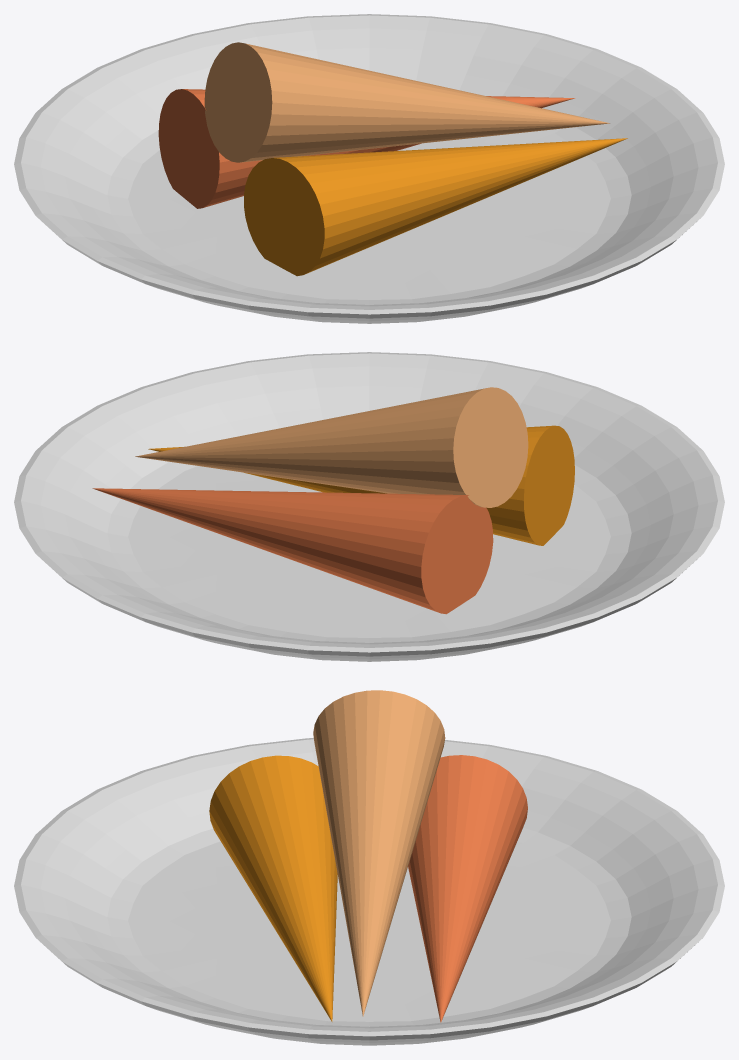
The model's file is kue clorot.fbx.
3 views of the same model, one above another, from view 1: azimuth 30°, elevation 25°; view 2: azimuth 150°, elevation 25°; view 3: azimuth 270°, elevation 25° (orthographic).
Visible parts, largest first — view 1: Cylinder, Cone.002, Cone.001, Cone; view 2: Cylinder, Cone, Cone.002, Cone.001; view 3: Cylinder, Cone.002, Cone.001, Cone.
Part boxes in pixels (x1,y1,x2,y2): Cylinder: (14, 14, 724, 323); Cone.002: (204, 42, 609, 162); Cone.001: (244, 138, 627, 276); Cone: (158, 89, 575, 208); Cylinder: (14, 352, 724, 661); Cone: (92, 488, 493, 614); Cone.002: (135, 387, 528, 507); Cone.001: (148, 425, 574, 545); Cylinder: (14, 738, 724, 1045); Cone.002: (313, 690, 445, 1016); Cone.001: (209, 755, 337, 1021); Cone: (408, 755, 527, 1022).
Size of the model in its own units: 231 by 69.62 by 231.
